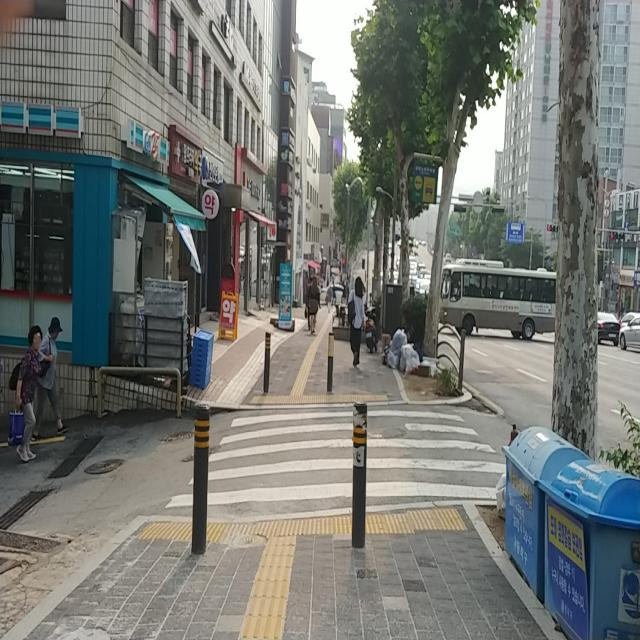횡단보도: (164, 408, 507, 509)
